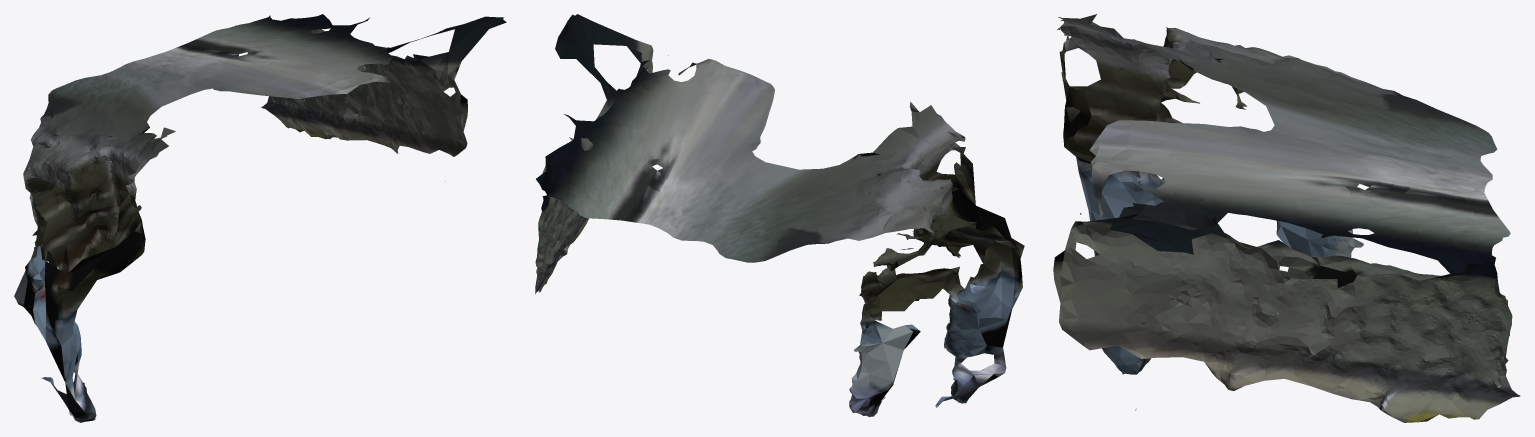
File: texturedMesh.obj
3 renders of one model, left to right at view 1: azimuth 30°, elevation 25°; view 2: azimuth 150°, elevation 25°; view 3: azimuth 270°, elevation 25°, orthographic. The views are drawn at different scales.
Visible parts, largest first — view 1: TexturedMesh; view 2: TexturedMesh; view 3: TexturedMesh.
Boxes of the visible parts, x1,y1,x2,y2 form: TexturedMesh: (14, 14, 506, 422); TexturedMesh: (535, 14, 1024, 416); TexturedMesh: (1053, 14, 1520, 422).
Bounding box in the file's own units: 0.8743 × 0.5448 × 0.5335.
Materials: 1 (1 with a texture image).
